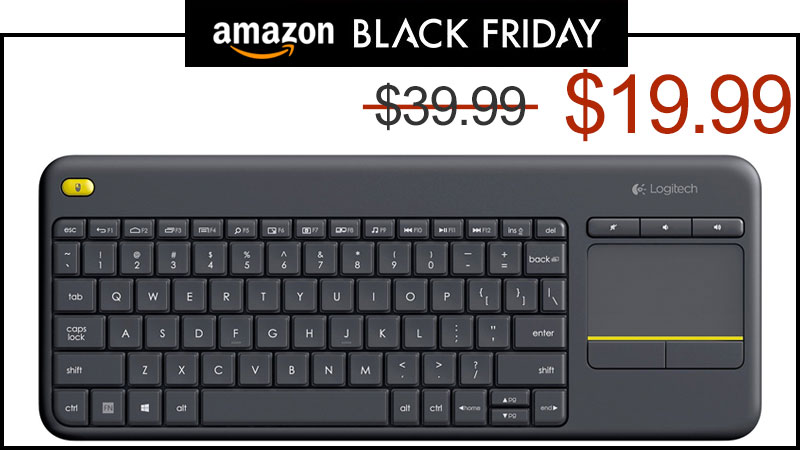logitech-keyboard-k400: (39, 154, 757, 443)
